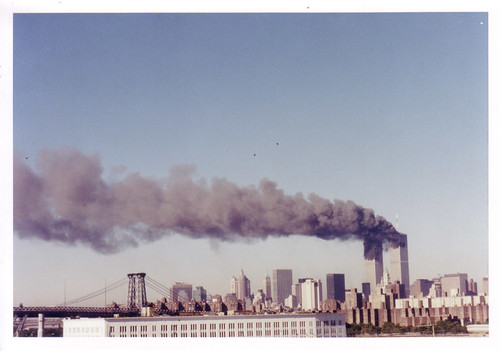bridge: (20, 291, 161, 329)
building: (67, 315, 341, 338), (370, 268, 395, 313), (273, 266, 296, 311), (440, 266, 470, 299), (299, 274, 322, 313), (230, 271, 253, 303), (327, 270, 345, 305), (169, 278, 190, 306), (261, 271, 273, 305), (193, 282, 209, 304)
sky: (18, 10, 482, 261)
smoke: (13, 145, 398, 252)
